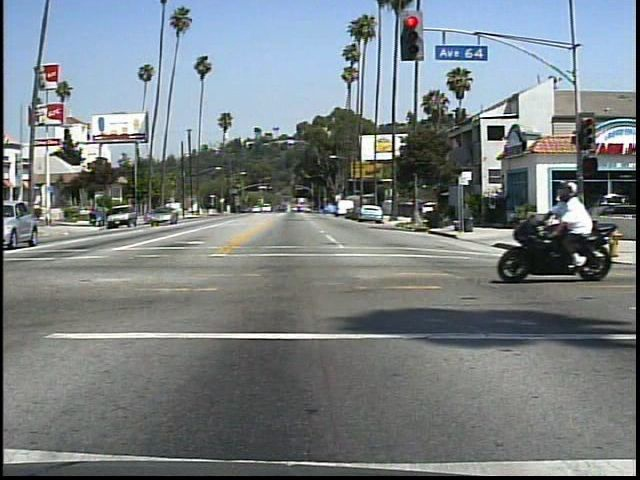person: (544, 176, 604, 281), (548, 191, 570, 213)
